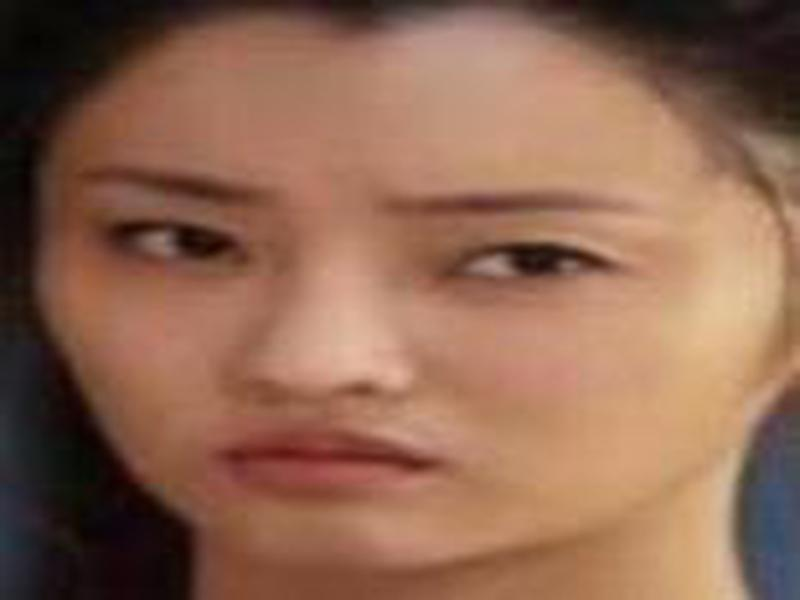without_mask: (33, 57, 740, 574)
